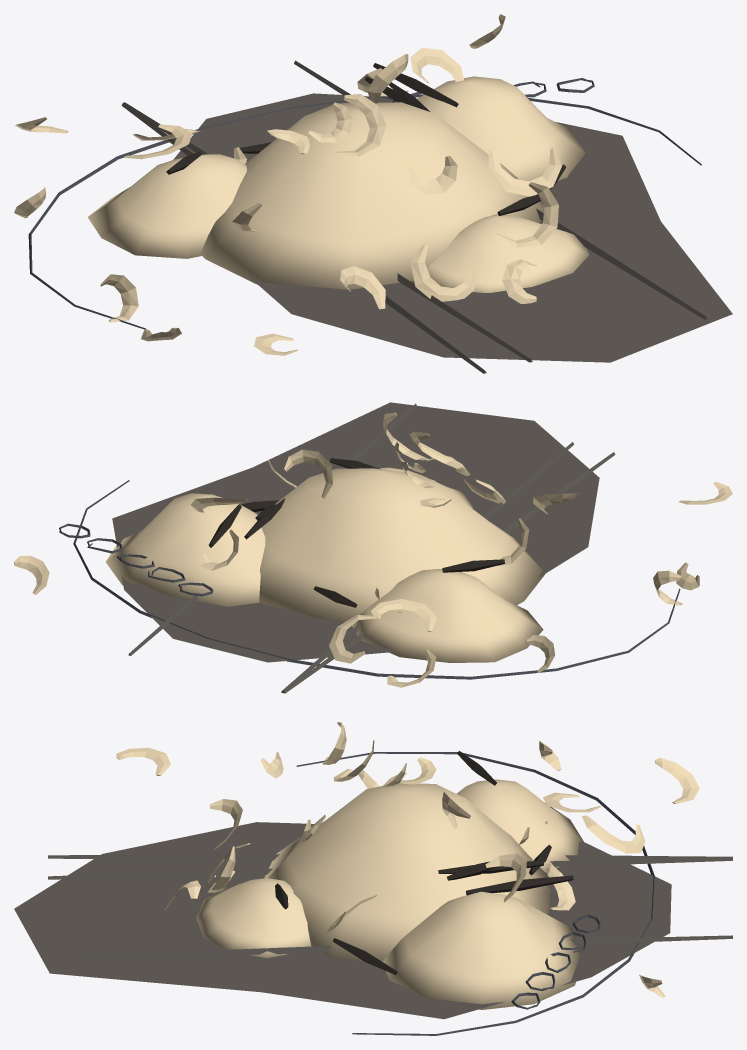
Rendered from SawdustPile.fbx.
3 views of the same model, one above another, from view 1: azimuth 30°, elevation 25°; view 2: azimuth 150°, elevation 25°; view 3: azimuth 270°, elevation 25° (orthographic). The views are drawn at different scales.
Parts seen in each view (by area): view 1: Pile, Lines; view 2: Pile, Lines; view 3: Pile, Lines.
Part boxes in pixels (x1,y1,x2,y2): Pile: (14, 14, 589, 355); Lines: (28, 60, 732, 373); Pile: (14, 412, 732, 687); Lines: (59, 402, 680, 693); Pile: (116, 722, 699, 1009); Lines: (14, 752, 732, 1035).
Bounding box in the file's own units: 0.8801 × 0.2066 × 0.945.
